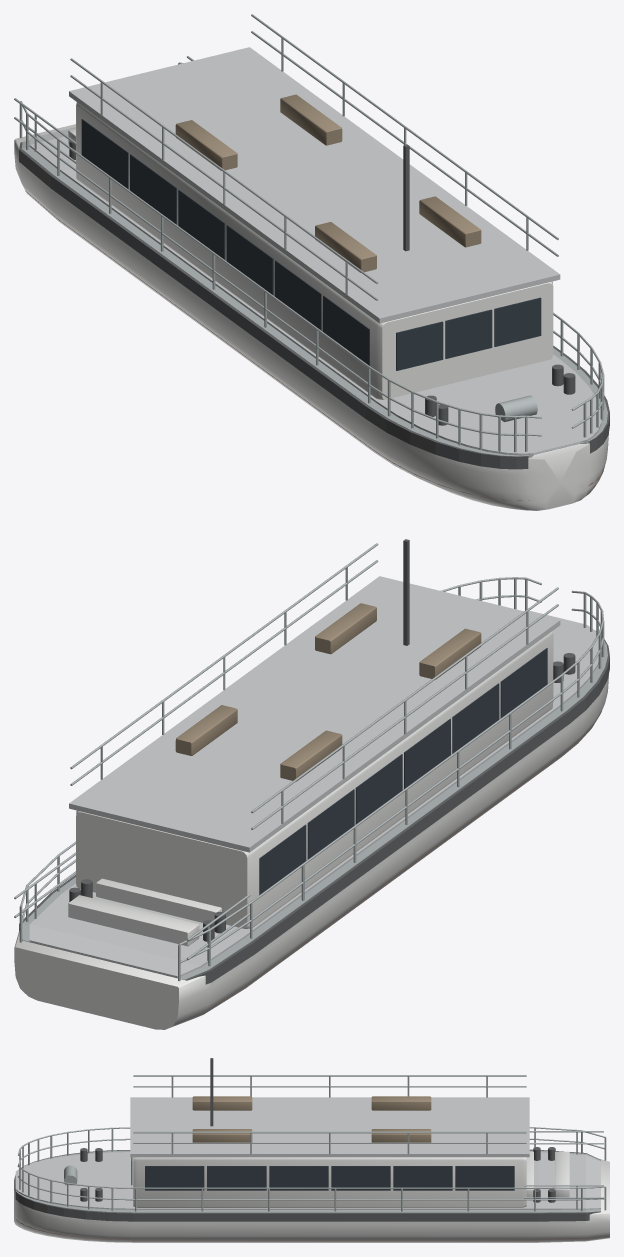
File: vessel-tender.glb
3 renders of one model, top to bottom at view 1: azimuth 30°, elevation 25°; view 2: azimuth 150°, elevation 25°; view 3: azimuth 270°, elevation 25°, orthographic. The views are drawn at different scales.
Visible parts, largest first — view 1: vessel-tender; view 2: vessel-tender; view 3: vessel-tender.
Boxes of the visible parts, x1,y1,x2,y2 form: vessel-tender: (14, 14, 609, 510); vessel-tender: (14, 539, 609, 1029); vessel-tender: (14, 1058, 609, 1242).
Bounding box in the file's own units: 5.06 × 5.9 × 20.
